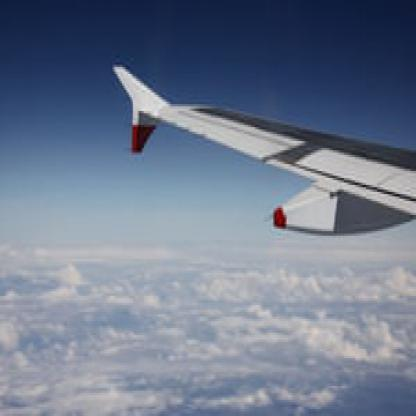CIV_Plane: (106, 55, 414, 246)
